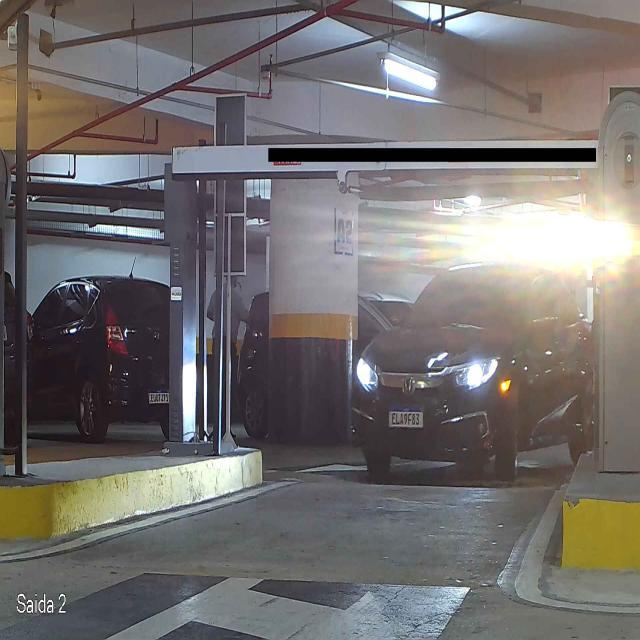mercosul_plate: (386, 406, 424, 430)
